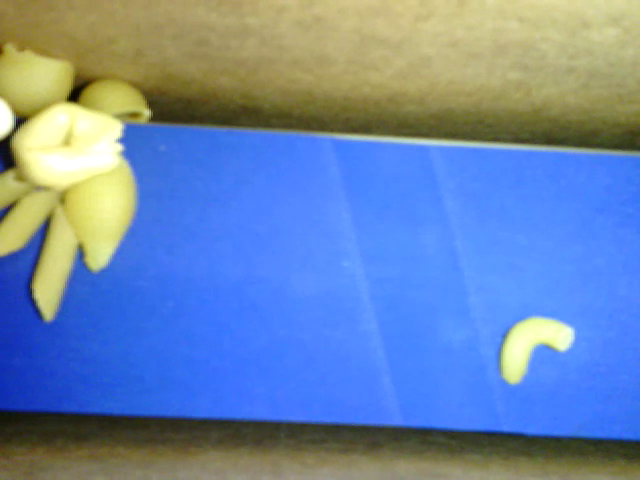elbow: (500, 315, 576, 385)
penne: (30, 203, 78, 320), (1, 189, 67, 255), (1, 170, 33, 210)
shell: (63, 152, 137, 274), (1, 42, 74, 115), (79, 79, 153, 122)
tortellini: (11, 102, 122, 187)
